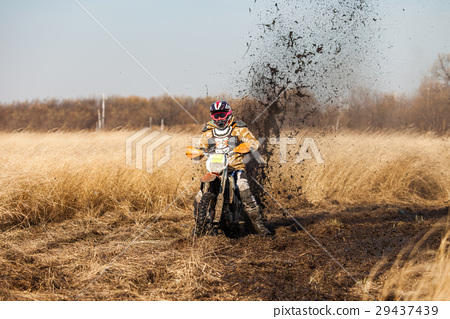helmet: (207, 99, 232, 132)
